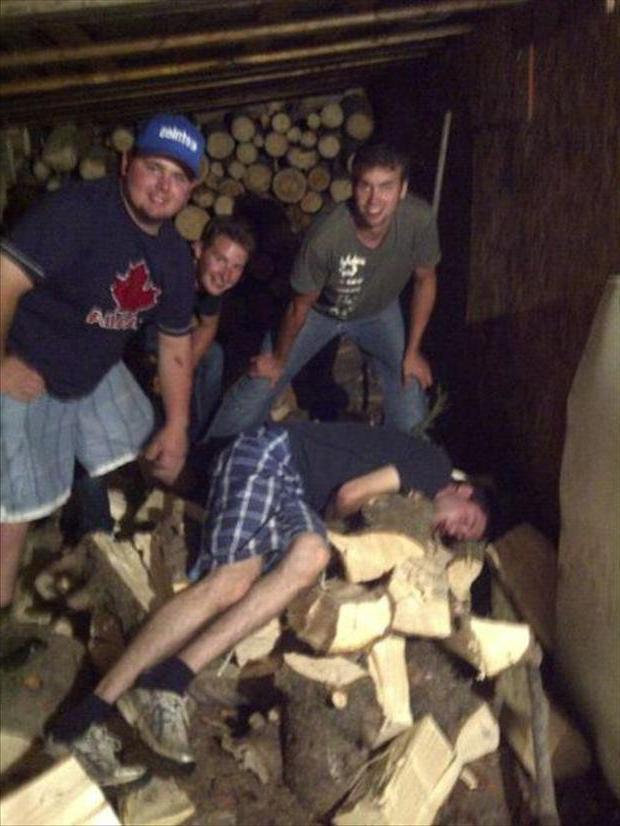Drunk: (127, 159, 189, 221), (436, 492, 490, 548), (201, 235, 248, 293), (354, 169, 395, 218)
